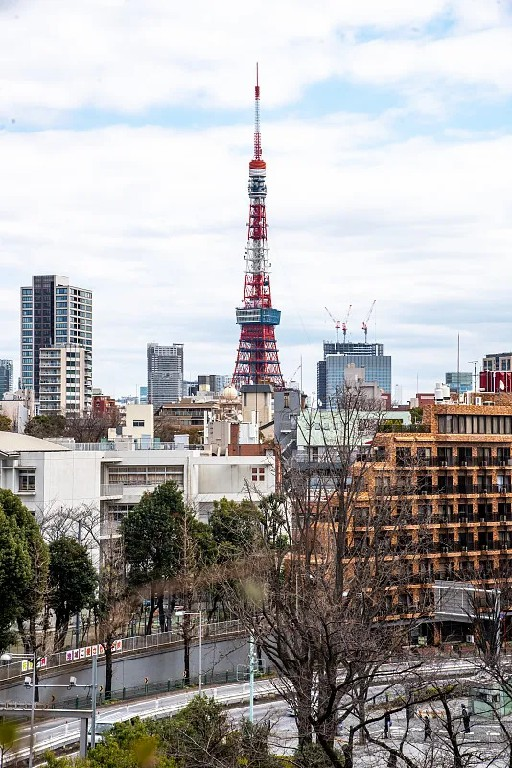Tokyo: (235, 59, 289, 389)
